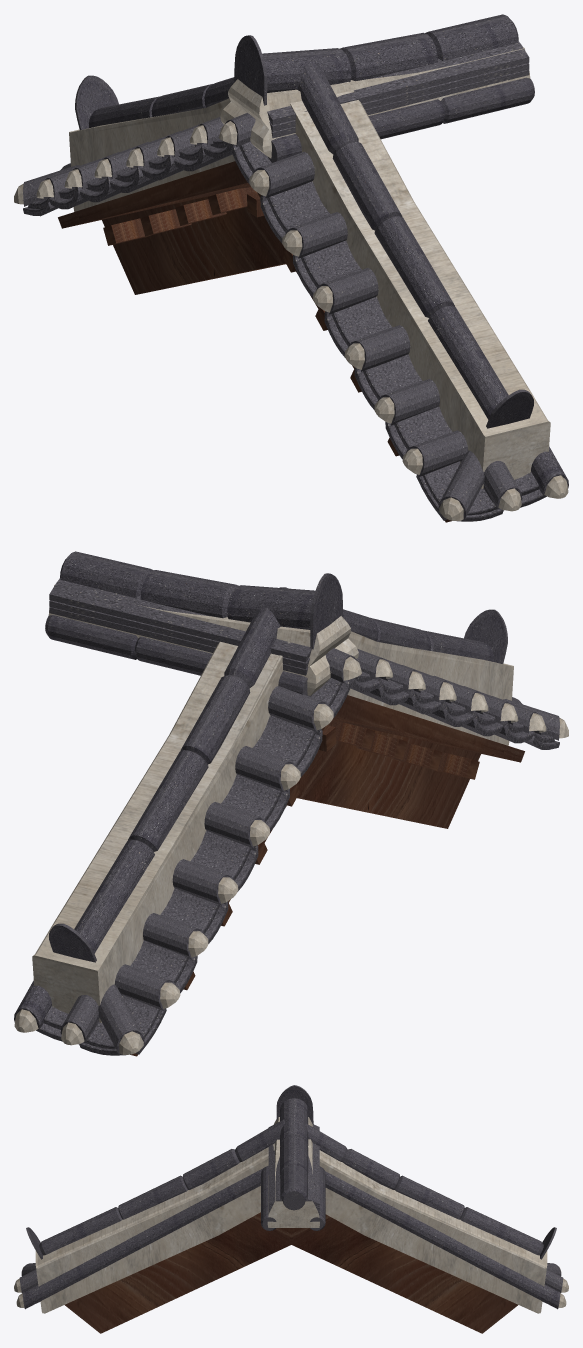
The model's file is SM_R_RoofOuter_20.fbx.
3 renders of one model, top to bottom at view 1: azimuth 30°, elevation 25°; view 2: azimuth 150°, elevation 25°; view 3: azimuth 270°, elevation 25°, orthographic. The views are drawn at different scales.
Visible parts, largest first — view 1: SM_R_RoofOuter_20; view 2: SM_R_RoofOuter_20; view 3: SM_R_RoofOuter_20.
Part boxes in pixels (x1,y1,x2,y2): SM_R_RoofOuter_20: (14, 14, 568, 522); SM_R_RoofOuter_20: (14, 551, 568, 1056); SM_R_RoofOuter_20: (14, 1085, 568, 1333).
Bounding box in the file's own units: 234 × 630 × 292.
Materials: 4 (4 with a texture image).
